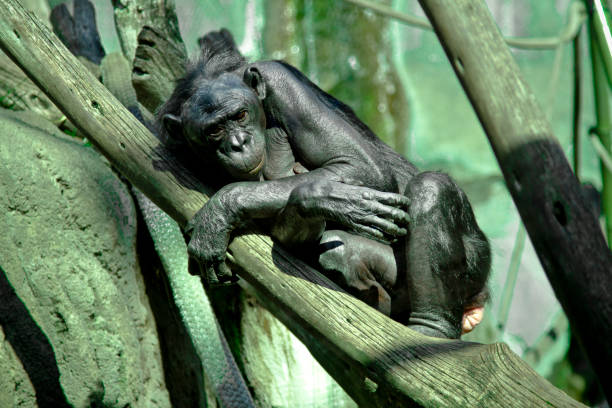chimpanzee: (157, 57, 286, 185)
